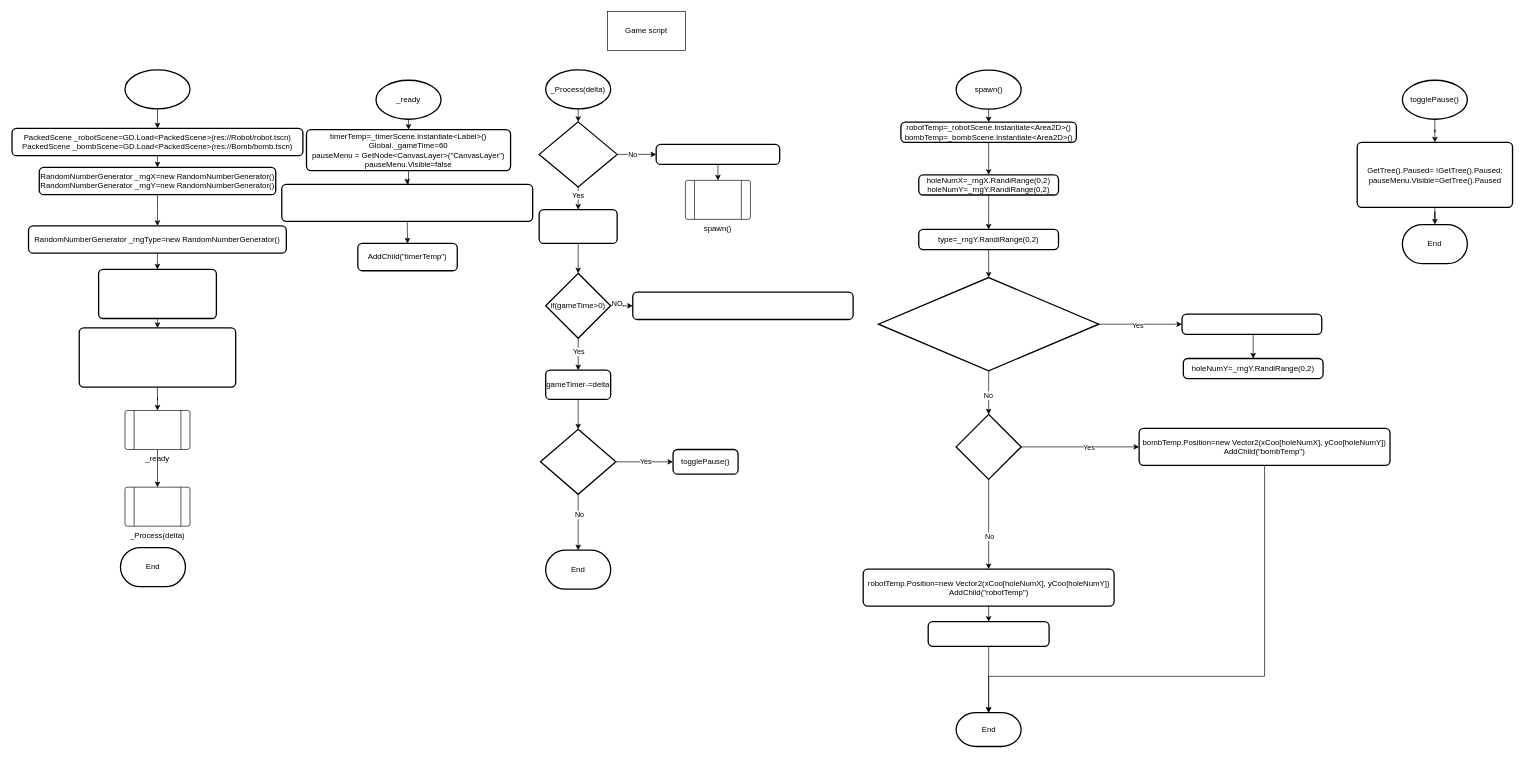
Some shapes in this 1524 by 759 pixel diagram are drawn without their labels. Each missing label, with the box of its shape:
_spawnTimer-=delta: (538, 209, 618, 244)
_spawnTimer=spawnTime: (655, 143, 780, 165)
GetTree().ChangeSceneToFile(res://Main Menu/main.tscn): (632, 291, 853, 320)
Global.xClear[holeNumX]=false Global.yClear[holeNumY]=false: (927, 621, 1049, 647)
holeNumX=_rngX.RandiRange(0,2): (1181, 313, 1322, 335)
if tab key pressed: (540, 428, 616, 495)
if type==1: (955, 413, 1021, 480)
if(_spawnTimer>0): (538, 121, 618, 187)
spawnTime=1.0 _spawnTimer=0.0 CanvasLayer pauseMenu: (98, 268, 217, 319)
Start: (124, 69, 190, 109)
timerTemp.Position=new Vector2(25, 25): (281, 183, 533, 222)
while Global.xClear[holeNumX]==false AND Global.yClear[holeNumY]==false: (878, 277, 1099, 371)
xCoo = [360, 570, 760] Array yCoo = [150, 330, 515]: (78, 327, 236, 387)
